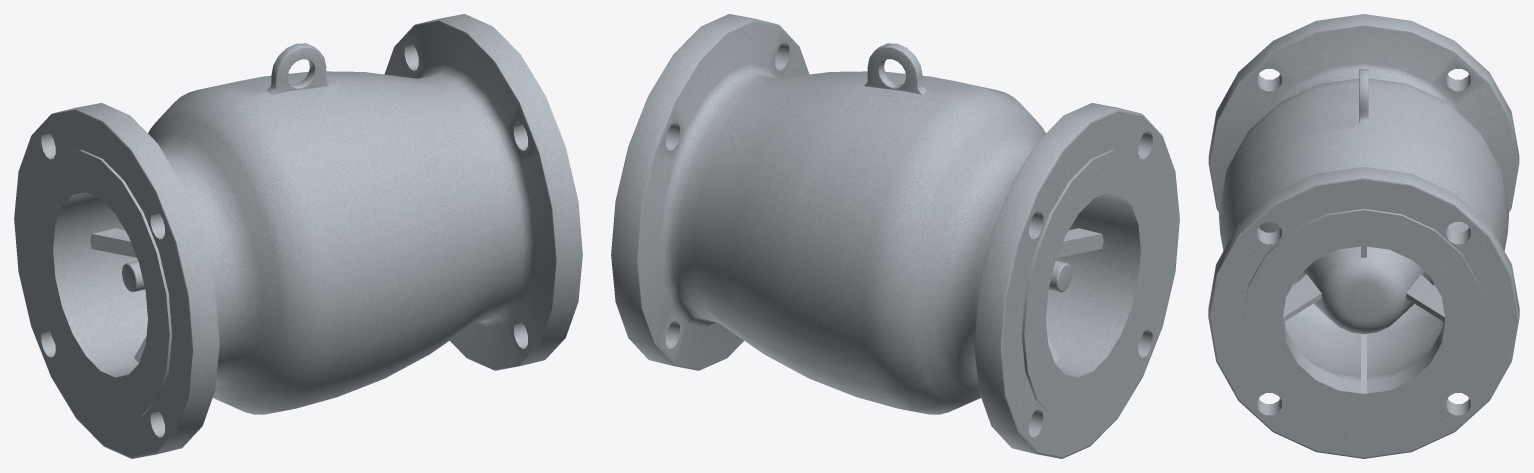
File: 轴流式止回阀.fbx
3 renders of one model, left to right at view 1: azimuth 30°, elevation 25°; view 2: azimuth 150°, elevation 25°; view 3: azimuth 270°, elevation 25°, orthographic. The views are drawn at different scales.
Visible parts, largest first — view 1: 阀体, 阀瓣; view 2: 阀体, 阀瓣; view 3: 阀体, 压盖.
Part boxes in pixels (bbox=[...]): 阀体: bbox=[14, 14, 582, 458]; 阀瓣: bbox=[122, 260, 144, 292]; 阀体: bbox=[611, 14, 1179, 458]; 阀瓣: bbox=[1049, 260, 1071, 292]; 阀体: bbox=[1208, 14, 1519, 458]; 压盖: bbox=[1272, 237, 1455, 403].
Size of the model in its own units: 21.23 by 18.14 by 16.7.
Materials: 2 (1 with a texture image).
